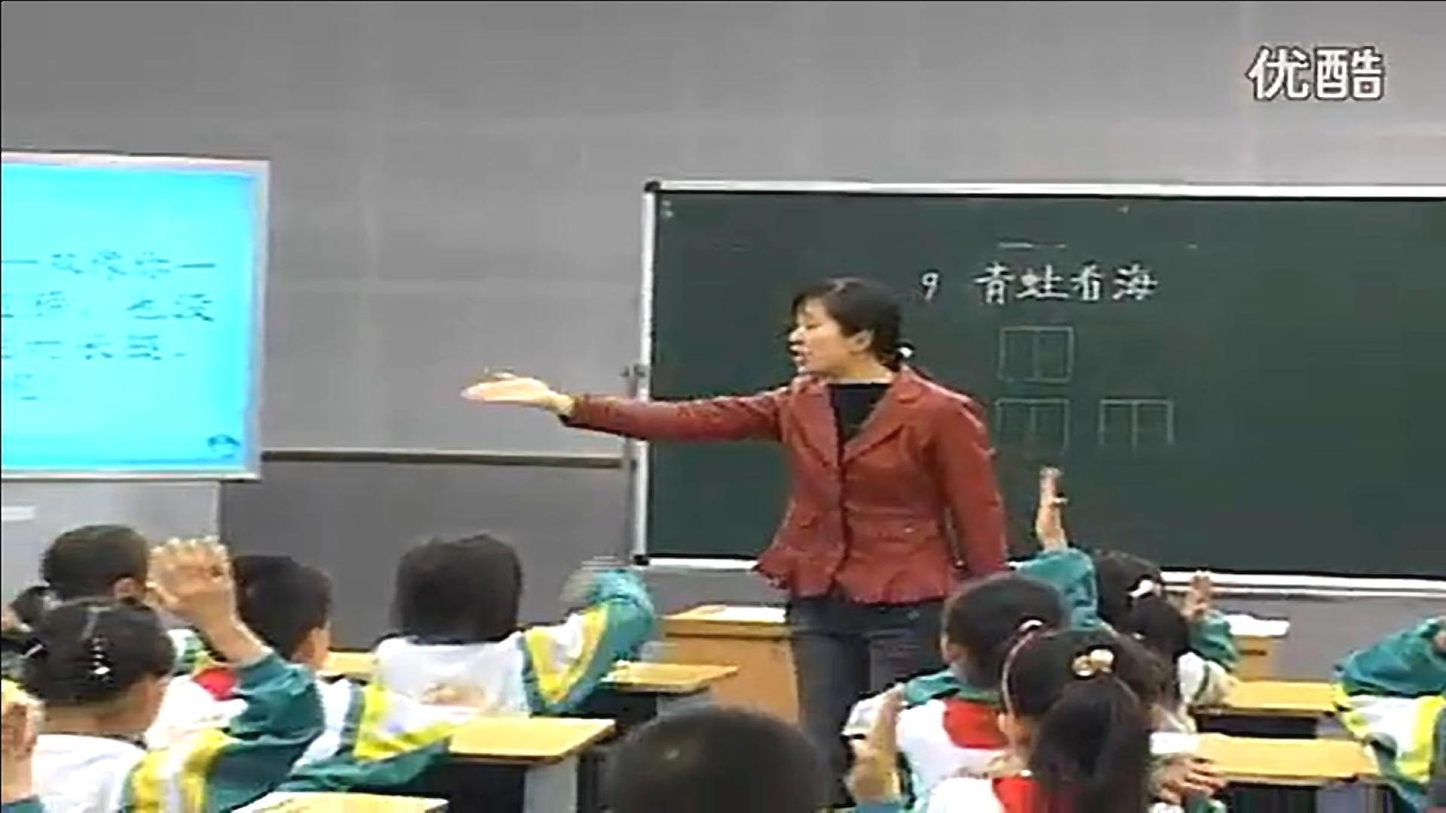Stand Up: (769, 254, 969, 674)
Wave: (167, 553, 292, 747), (1035, 477, 1086, 595)
